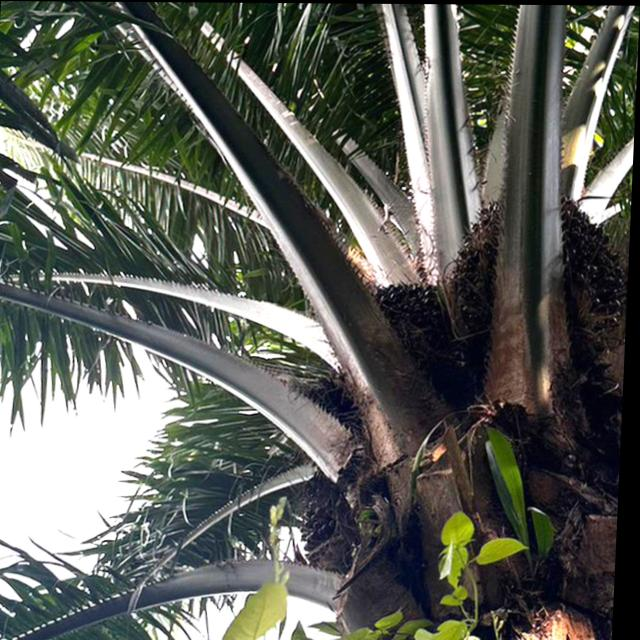almost: (450, 168, 633, 361), (346, 280, 479, 398), (297, 455, 385, 568)
